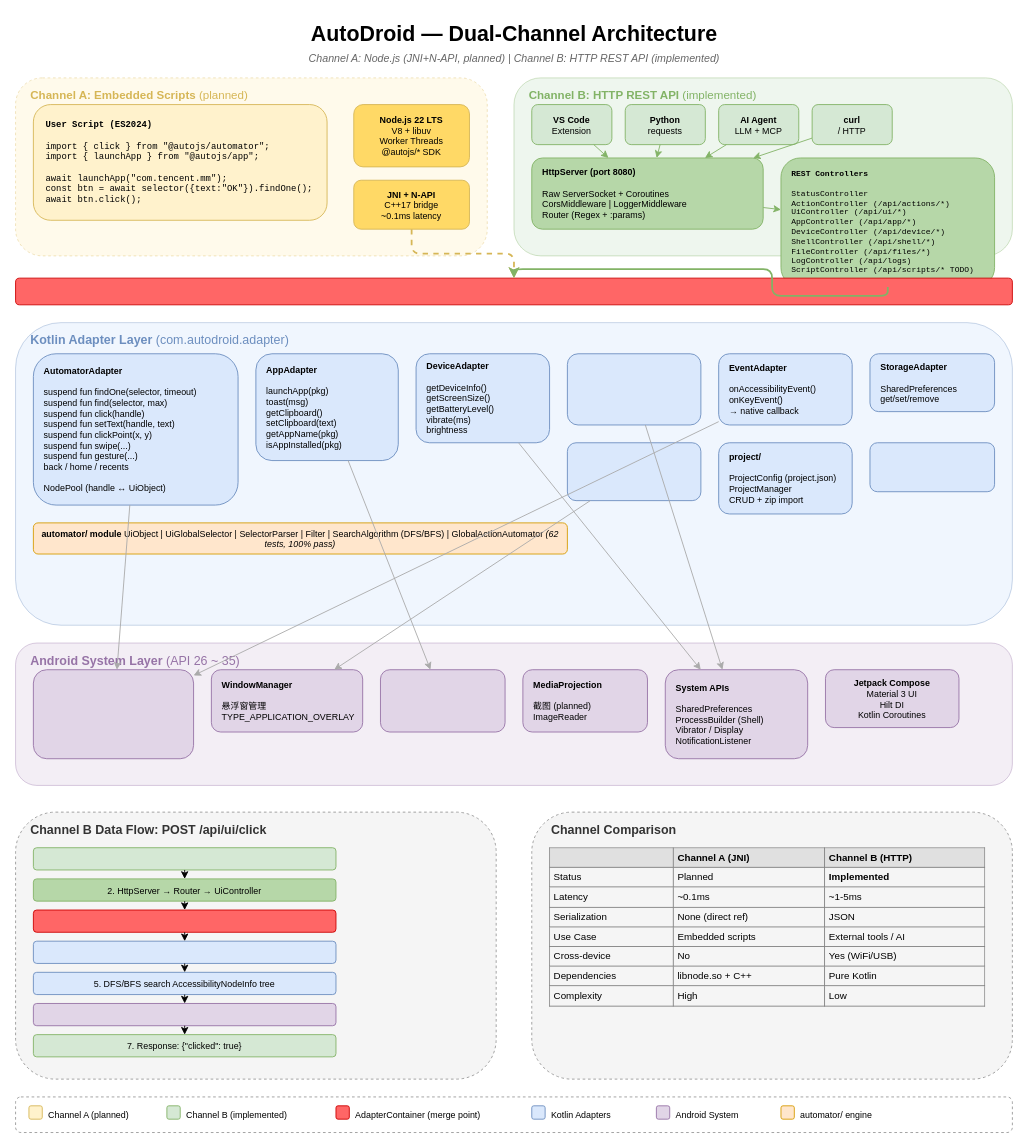
Some shapes in this 1028 by 1148 pixel diagram are drawn without their labels. Each missing label, with the centre of its shape:
1. curl -X POST /api/ui/click -d '{"selector":{"text":"OK"}}': [184,858]
3. UiController → AutomatorAdapter.findOne(selectorJson, timeout): [184,920]
4. SelectorParser.parse → UiGlobalSelector.findOneOf(root): [184,951]
6. node.performAction(ACTION_CLICK): [184,1014]
AccessibilityService UI 节点树遍历 dispatchGesture performGlobalAction 事件监听: [113,714]
AdapterContainer (Hilt DI): [513,291]
bridge/ TypeConverter (Rect → Map): [932,467]
PackageManager 应用查询 Activity 启动: [442,700]
ShellAdapter exec(cmd): Result execRoot(cmd) isRootAvailable(): [633,389]
UIAdapter floaty (WindowManager) dialog (AlertDialog): [633,471]
